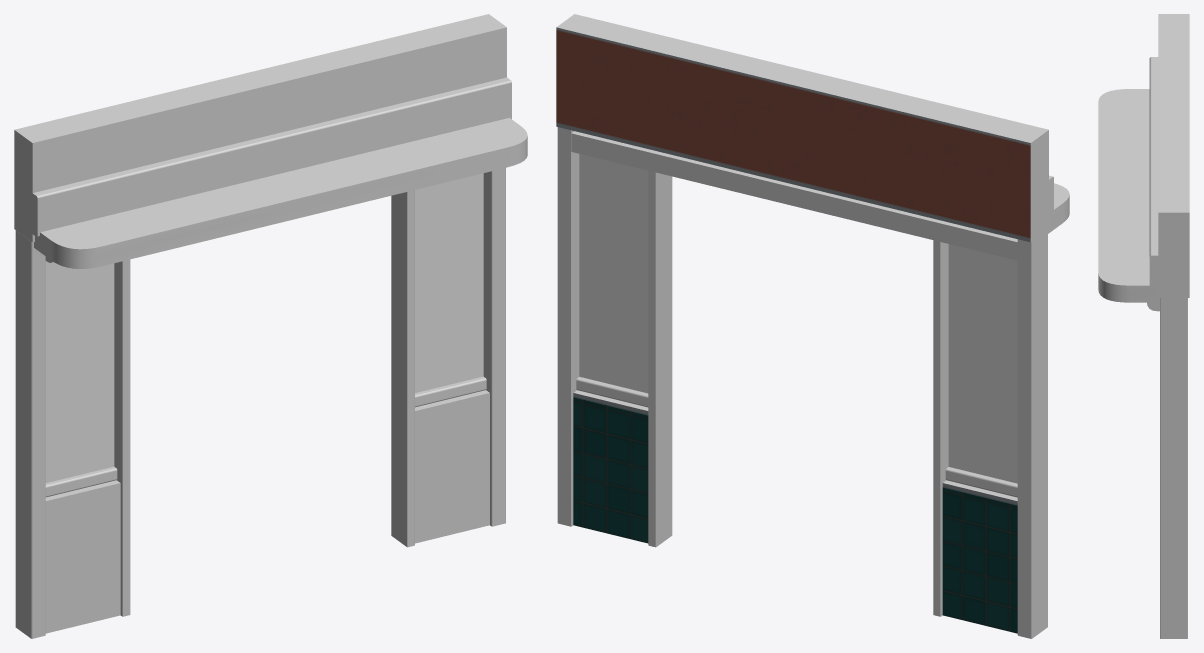
File: SM_Entrance.fbx
3 views of the same model, side by side, from view 1: azimuth 30°, elevation 25°; view 2: azimuth 150°, elevation 25°; view 3: azimuth 270°, elevation 25° (orthographic). The views are drawn at different scales.
Visible parts, largest first — view 1: SM_Update_Entrance_v001; view 2: SM_Update_Entrance_v001; view 3: SM_Update_Entrance_v001.
Boxes of the visible parts, x1=… form: SM_Update_Entrance_v001: x1=14, y1=14, x2=527, y2=638; SM_Update_Entrance_v001: x1=556, y1=14, x2=1069, y2=638; SM_Update_Entrance_v001: x1=1098, y1=14, x2=1189, y2=638.
Bounding box in the file's own units: 3 × 3 × 0.5829.
3 materials, 1 textured.
